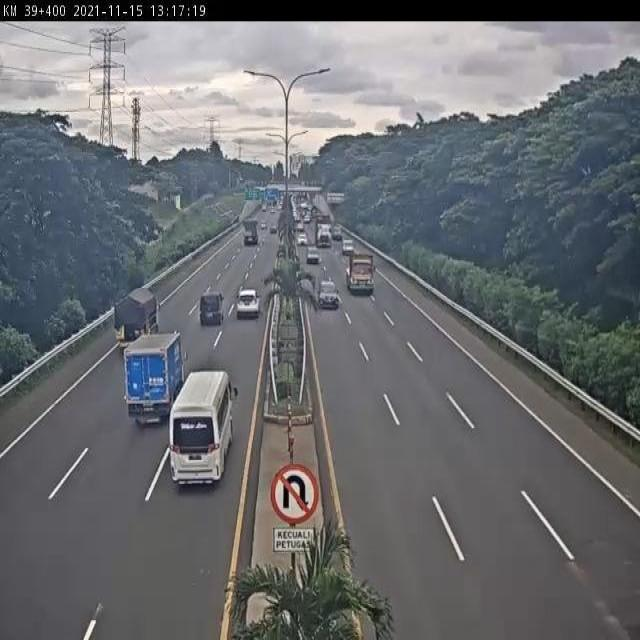Car: (192, 286, 231, 334), (235, 281, 260, 328), (315, 277, 341, 311)
Truck: (118, 324, 181, 437), (108, 278, 160, 330), (346, 247, 381, 296)
Van: (169, 365, 236, 498)
